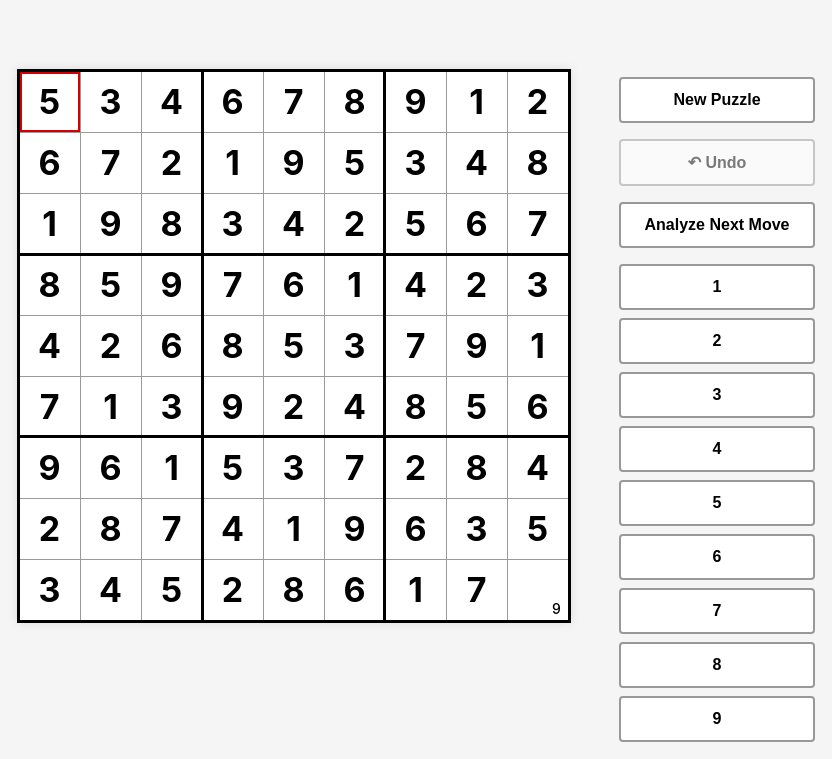
Scenario: App interactions › analyzes the next move and reports easy naked-single hints
The width and height of the screenshot is (832, 759).
Click the button "Analyze Next Move" at (717, 225), box [618,202,815,248]
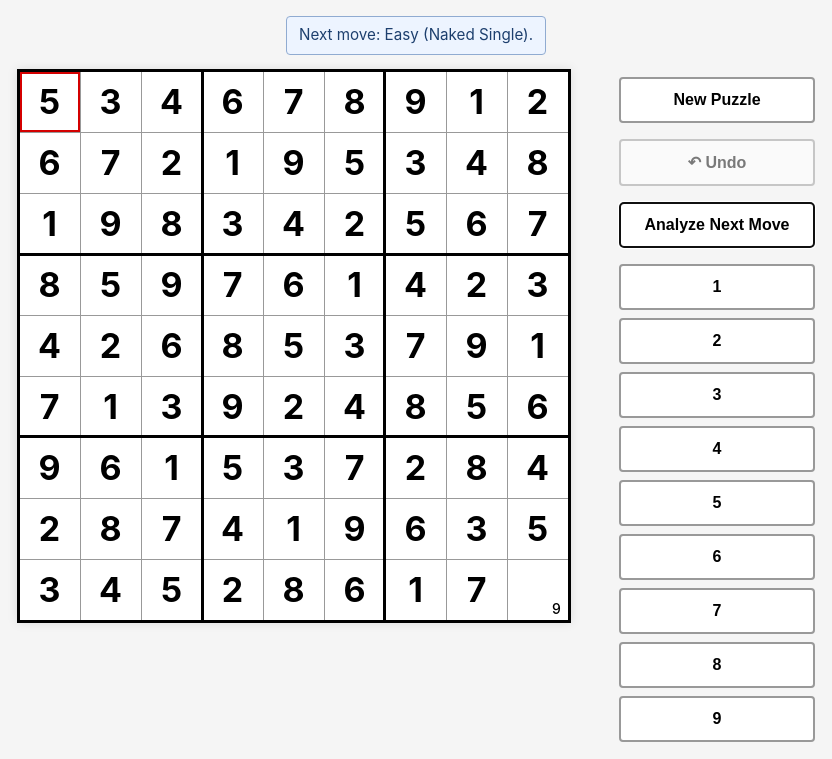
Result: the text "Next move: Easy (Naked Single)." is shown at [286,16,546,55]
Result: the text with class "status-message" reads "Next move: Easy (Naked Single)." at [299,25,533,44]
